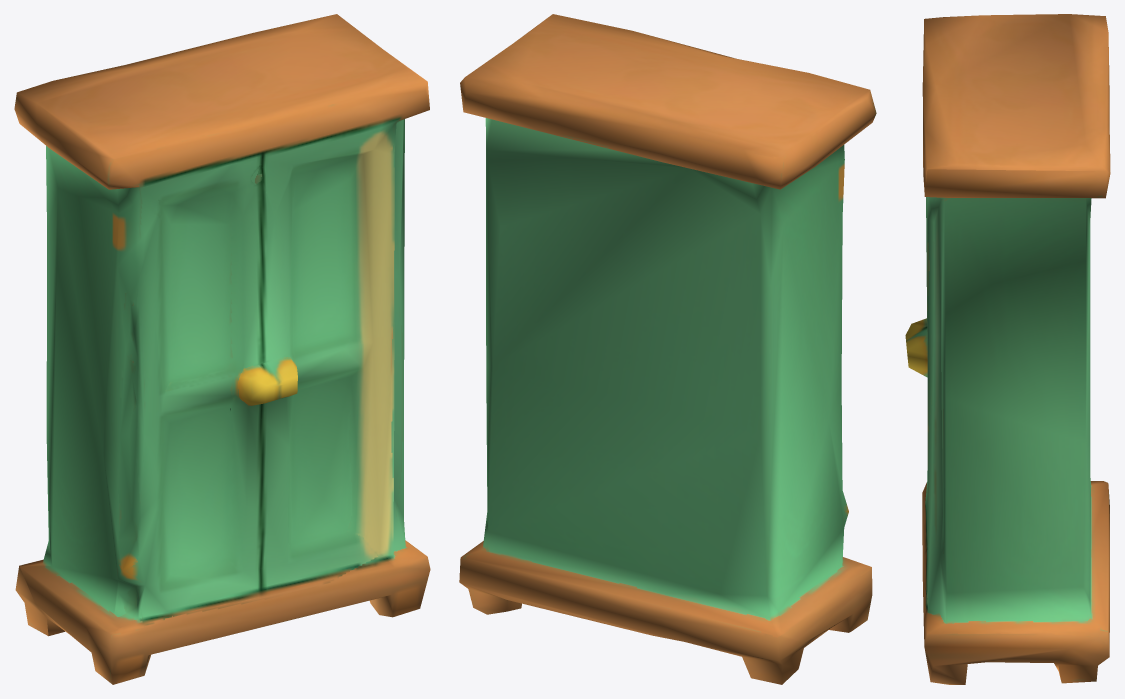
Rendered from tall-wardrobe.glb.
The picture shows the model from 3 angles, left to right: view 1: azimuth 30°, elevation 25°; view 2: azimuth 150°, elevation 25°; view 3: azimuth 270°, elevation 25°; orthographic projection. The views are drawn at different scales.
Parts seen in each view (by area): view 1: geometry_0.001; view 2: geometry_0.001; view 3: geometry_0.001.
Boxes of the visible parts, left/top/right/bottom form: geometry_0.001: left=14, top=14, right=430, bottom=684; geometry_0.001: left=459, top=14, right=876, bottom=684; geometry_0.001: left=905, top=14, right=1110, bottom=684.
Bounding box in the file's own units: 0.6326 × 1 × 0.355.
Materials: 1 (1 with a texture image).
